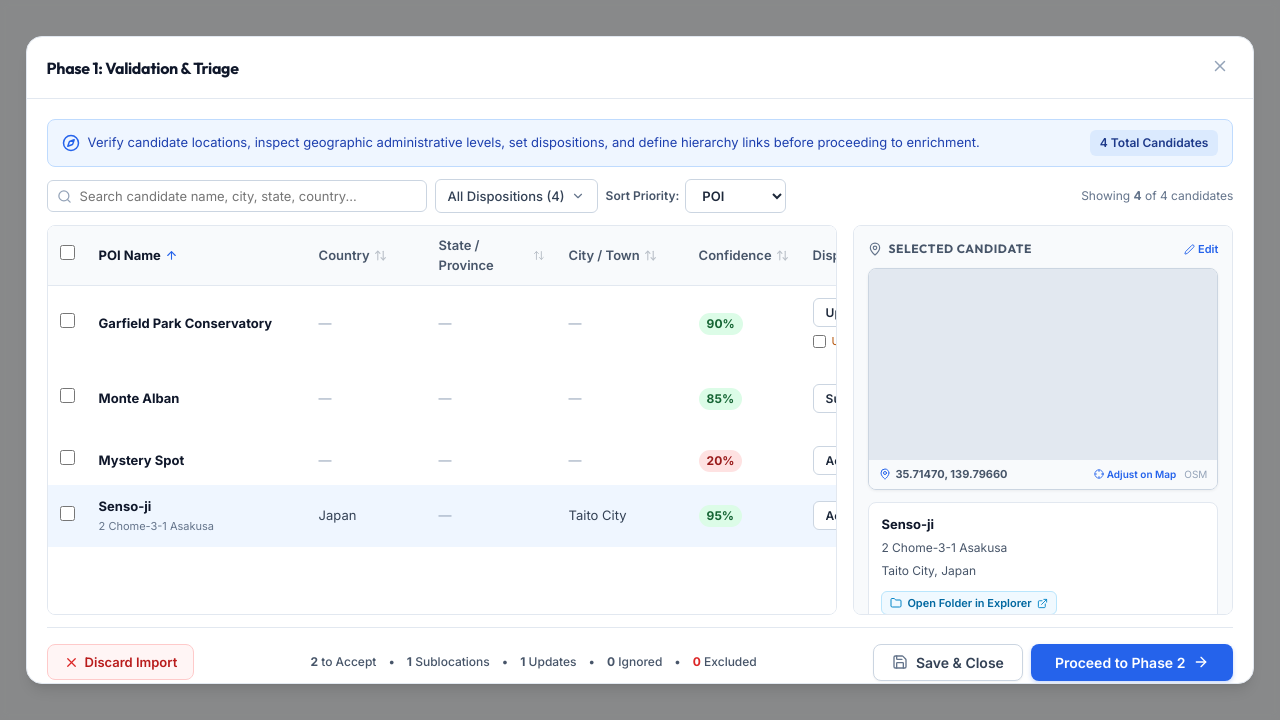
Test: CSVTriageModal (Phase 1) › supports selecting multiple POIs and bulk editing country, state, and city without changing unprovided fields
Expected: the text "Senso-ji" in the row of "95" is shown, top-left (99, 498), bottom-right (151, 514)
Click the checkbox with test id "select-candidate-cand-1": point(67, 513) top-left (60, 506), bottom-right (75, 520)
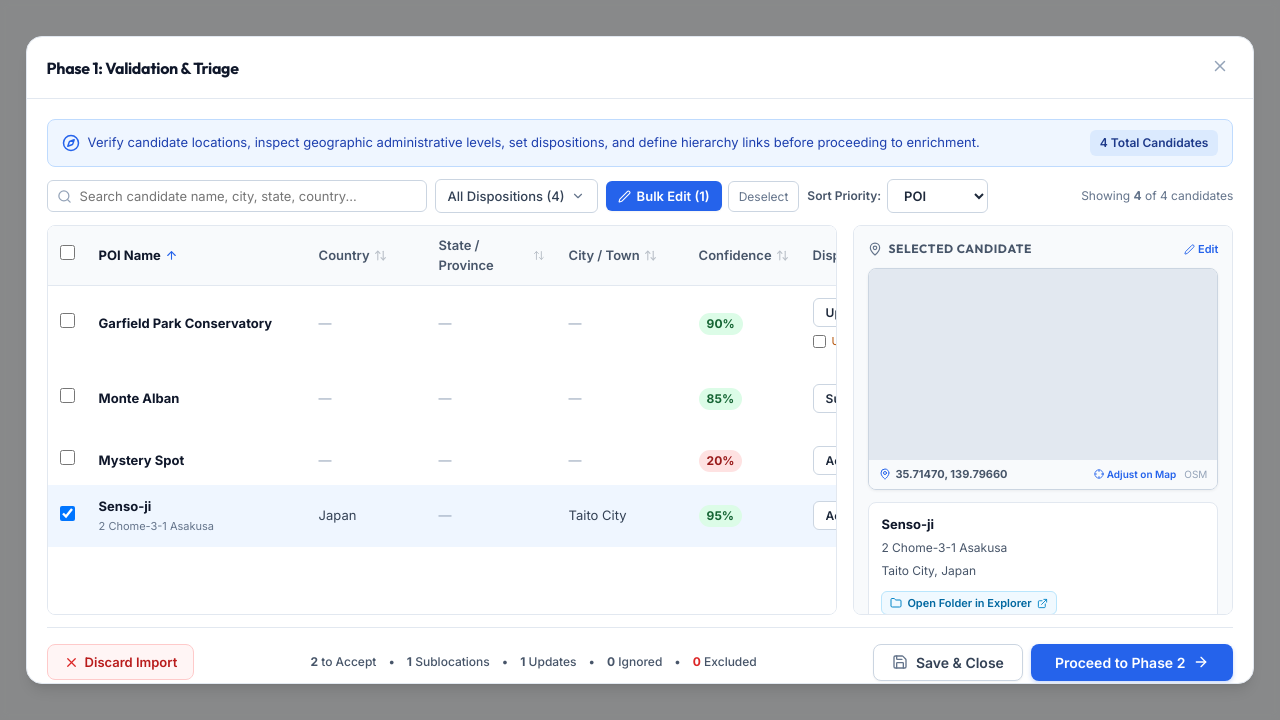
Click the checkbox with test id "select-candidate-cand-2": point(67, 396) top-left (60, 388), bottom-right (75, 403)
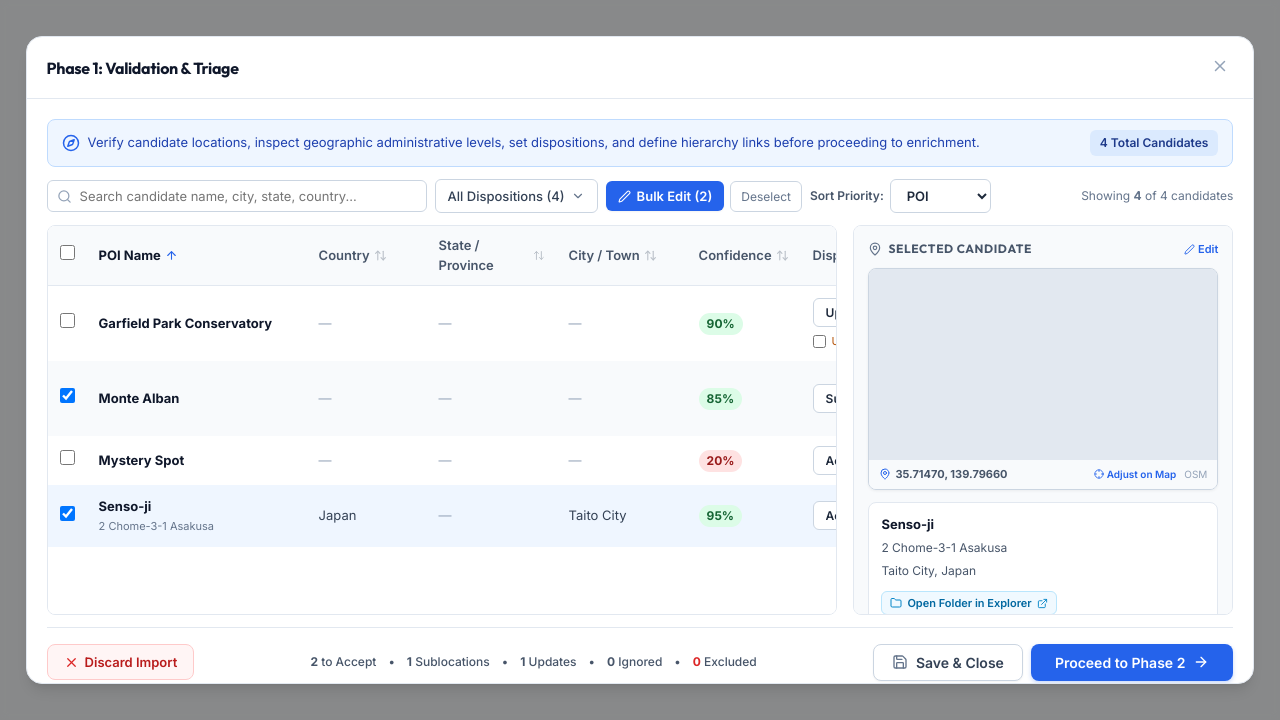
Result: the button with test id "bulk-edit-button" is shown
Result: the button with test id "bulk-edit-button" reads "Bulk Edit (2)"
Click the button with test id "bulk-edit-button": point(665, 196) top-left (606, 181), bottom-right (724, 211)
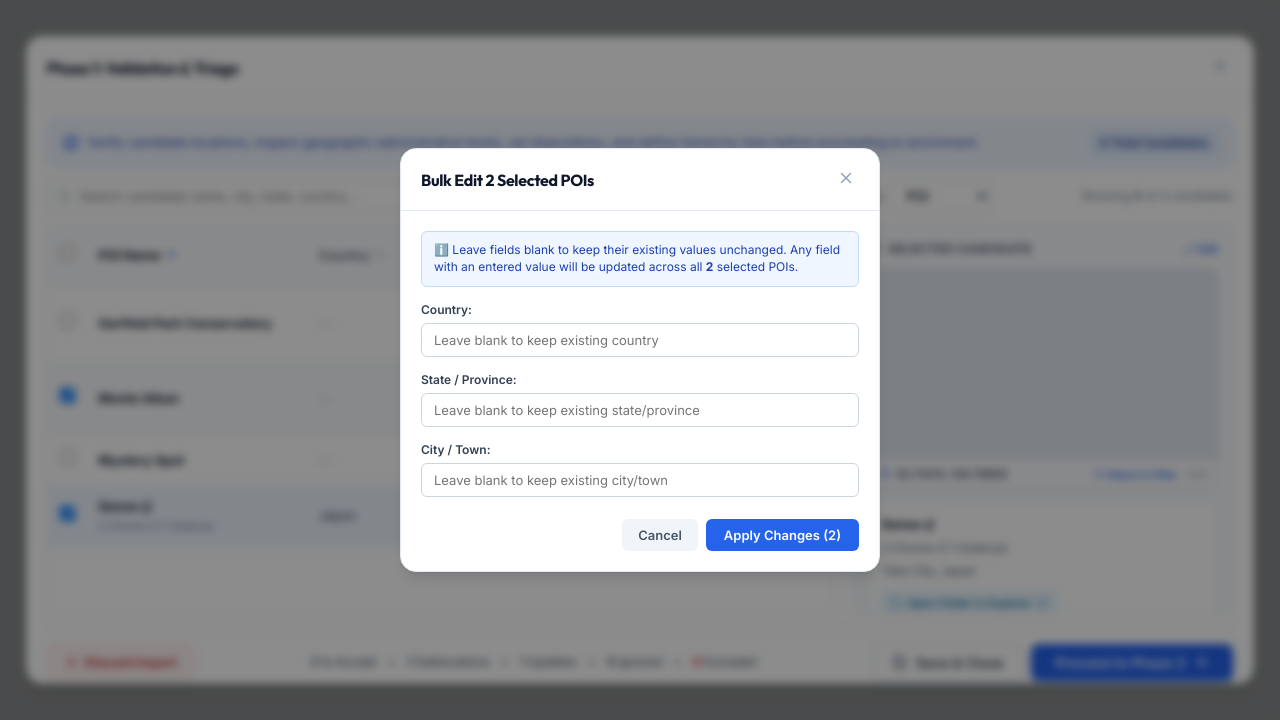
Result: the form with test id "bulk-edit-modal-form" is shown at top-left (421, 231), bottom-right (859, 551)
In the field with test id "bulk-city-input": point(640, 480) top-left (421, 463), bottom-right (859, 497), type "Kyoto"
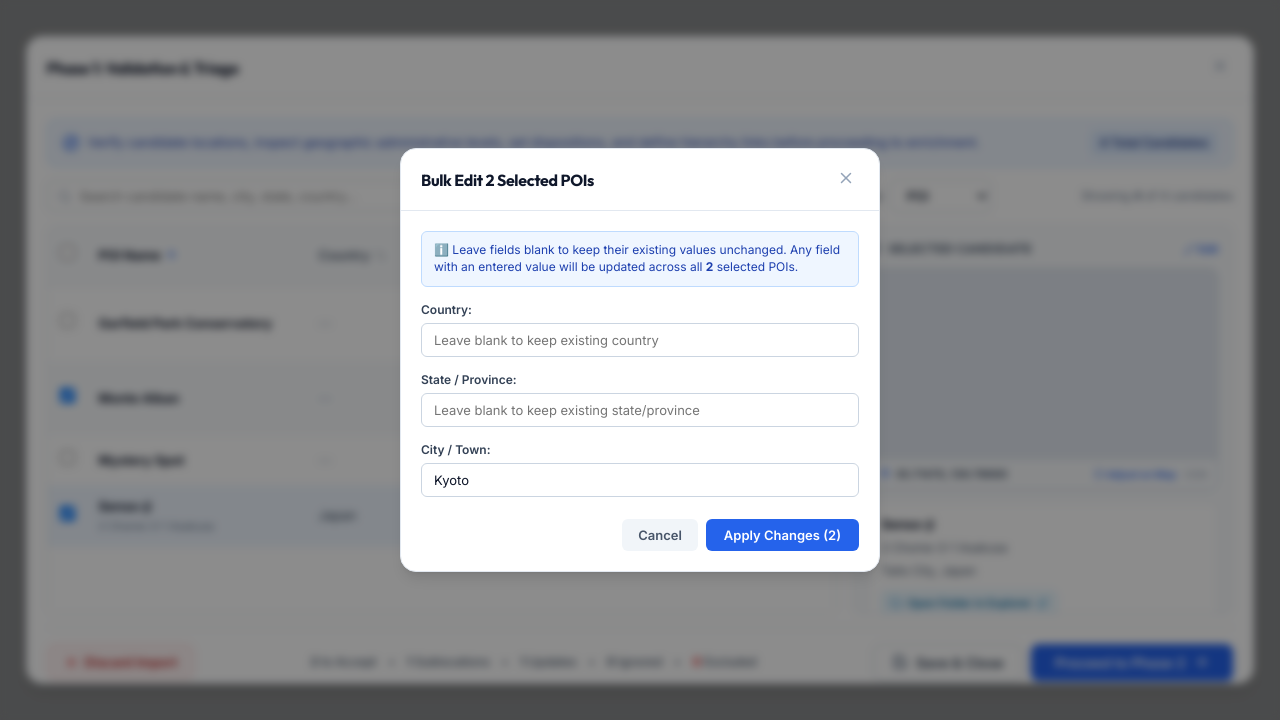
Click the button with test id "confirm-bulk-edit-button": point(782, 535) top-left (706, 519), bottom-right (859, 551)
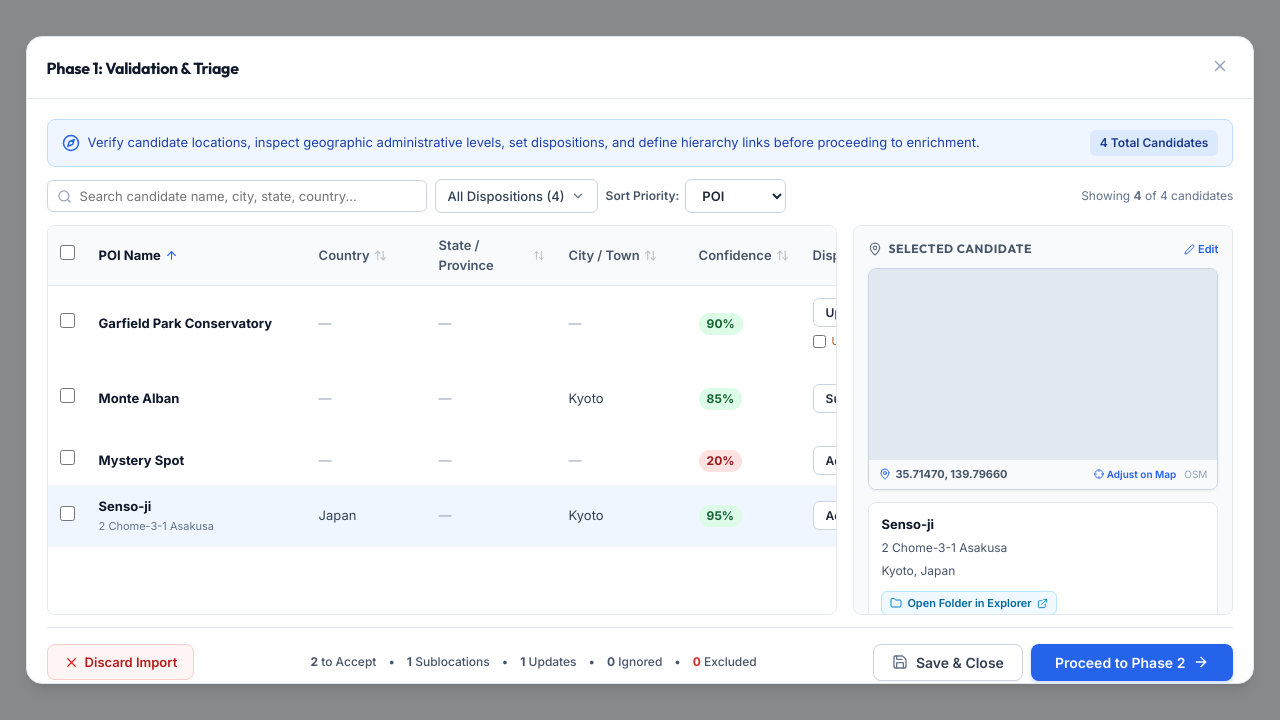
Result: the form with test id "bulk-edit-modal-form" is gone
Result: the button with test id "bulk-edit-button" is gone
